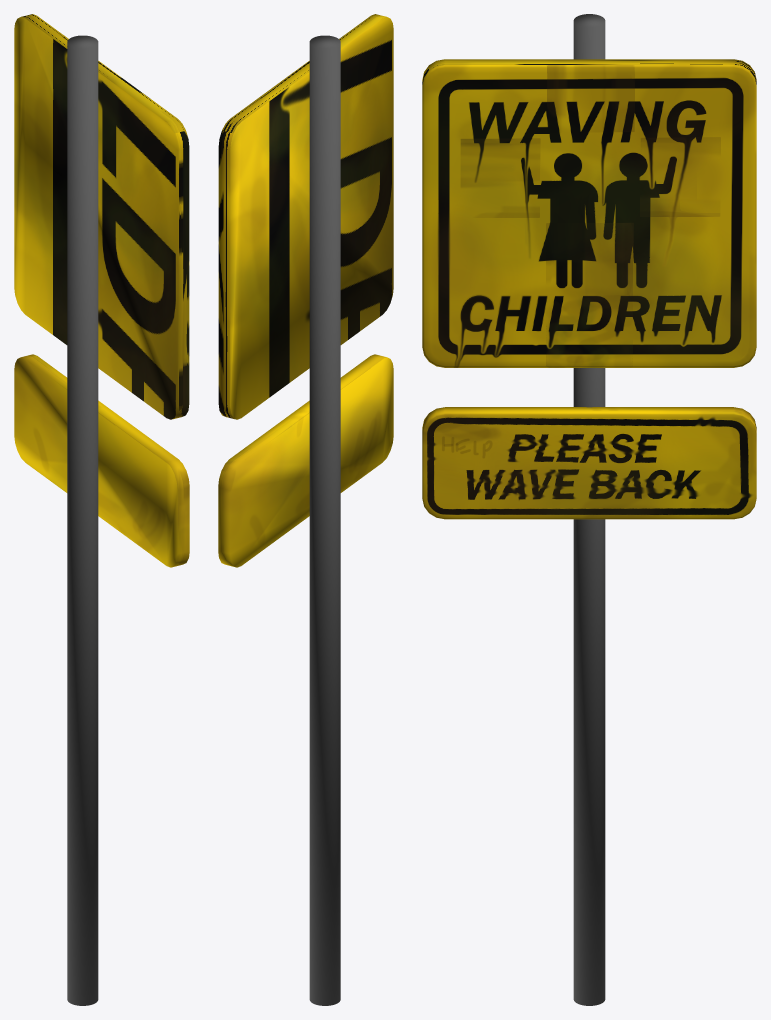
File: road sign 1.fbx
The picture shows the model from 3 angles, left to right: view 1: azimuth 30°, elevation 25°; view 2: azimuth 150°, elevation 25°; view 3: azimuth 270°, elevation 25°; orthographic projection. The views are drawn at different scales.
Visible parts, largest first — view 1: Cylinder; view 2: Cylinder; view 3: Cylinder.
Part boxes in pixels (x1,y1,x2,y2): Cylinder: (14, 14, 189, 1005); Cylinder: (218, 14, 393, 1005); Cylinder: (422, 14, 756, 1005).
Bounding box in the file's own units: 15.42 × 359 × 111.
3 materials, 2 textured.
